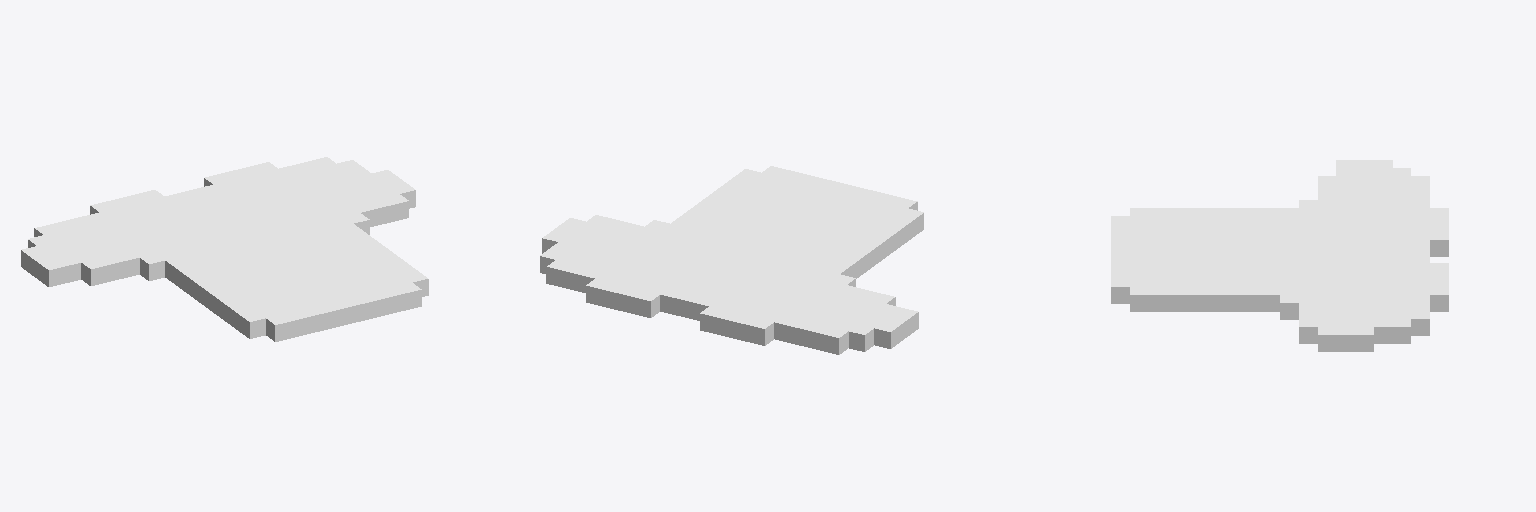
The model's file is MiamiShirt.obj.
The picture shows the model from 3 angles: view 1: azimuth 30°, elevation 25°; view 2: azimuth 150°, elevation 25°; view 3: azimuth 270°, elevation 25°; orthographic projection.
Visible parts, largest first — view 1: MiamiShirt; view 2: MiamiShirt; view 3: MiamiShirt.
Boxes of the visible parts, x1=… form: MiamiShirt: x1=21, y1=157, x2=428, y2=341; MiamiShirt: x1=540, y1=166, x2=923, y2=354; MiamiShirt: x1=1111, y1=160, x2=1448, y2=351.
Bounding box in the file's own units: 2.2 × 0.1 × 1.8.